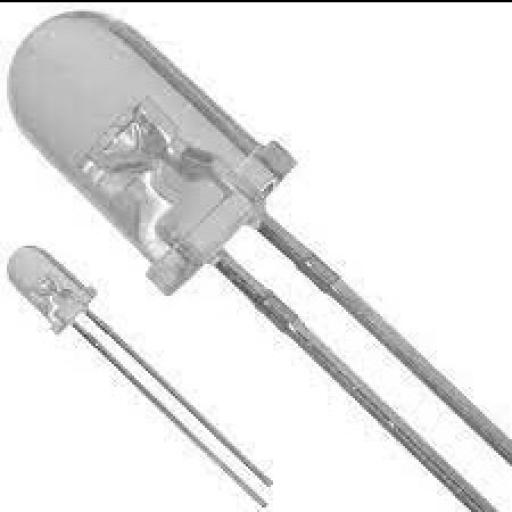LED: (7, 7, 369, 337), (6, 236, 124, 371)
